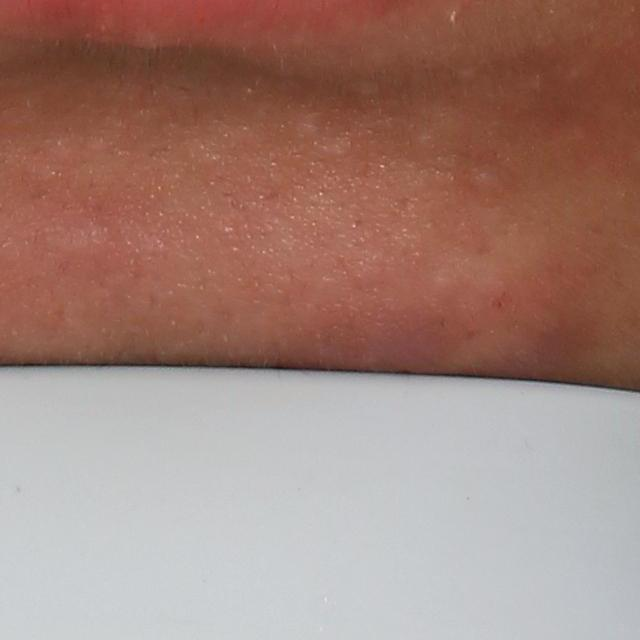hypertrophic_scar: (50, 231, 115, 259)
